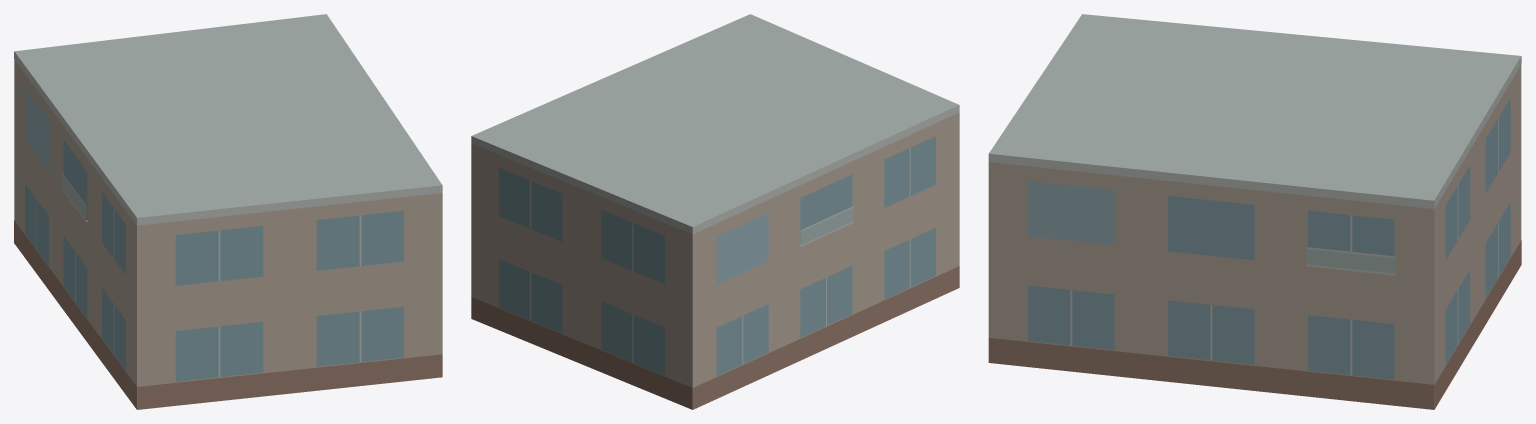
The model's file is survey-upis-32532287.glb.
3 views of the same model, side by side, from view 1: azimuth 30°, elevation 25°; view 2: azimuth 150°, elevation 25°; view 3: azimuth 270°, elevation 25° (orthographic). The views are drawn at different scales.
Parts seen in each view (by area): view 1: survey-upis-32532287.tmp; view 2: survey-upis-32532287.tmp; view 3: survey-upis-32532287.tmp.
Part boxes in pixels (x1,y1,x2,y2): survey-upis-32532287.tmp: (14, 14, 442, 409); survey-upis-32532287.tmp: (471, 14, 959, 409); survey-upis-32532287.tmp: (988, 14, 1521, 409).
Bounding box in the file's own units: 11.69 × 6.1 × 14.1.
